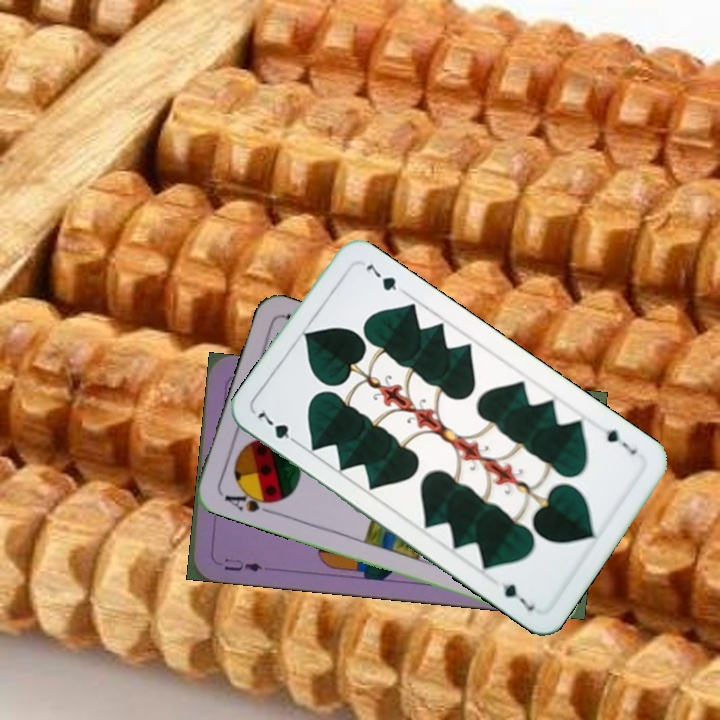EU: (220, 555, 265, 575)
G7: (252, 405, 303, 448), (596, 422, 639, 457)
SA: (220, 485, 279, 517)
